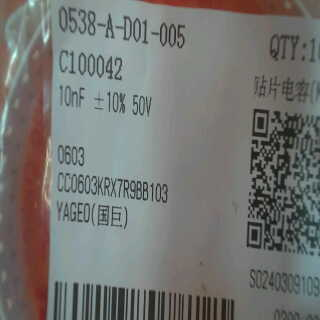10nF: (58, 84, 89, 109)
